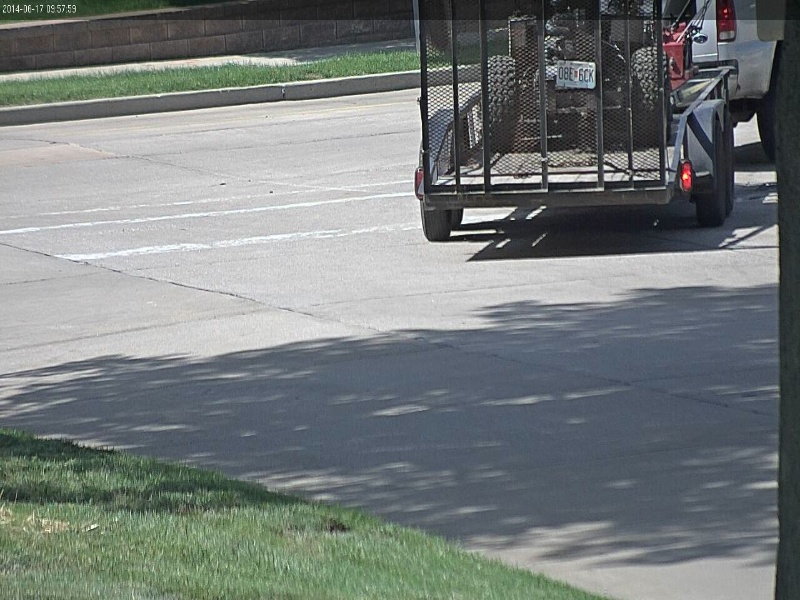licence plate: (554, 58, 596, 90)
